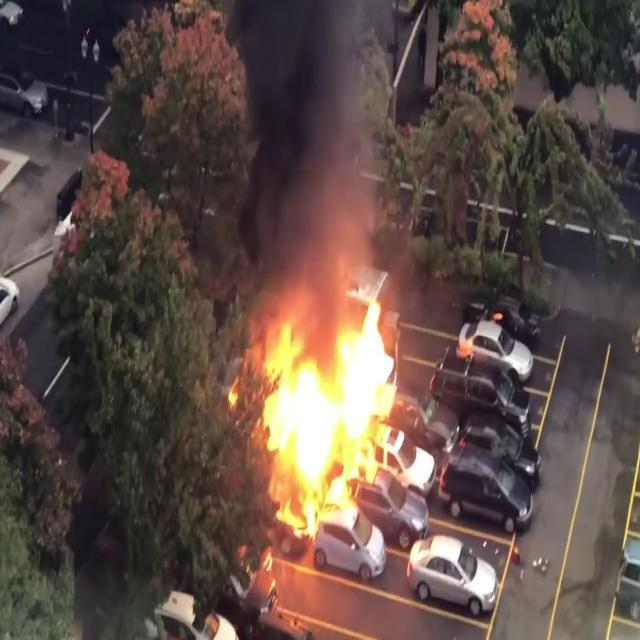Fire: (251, 282, 418, 538)
Smoke: (202, 0, 396, 298)
